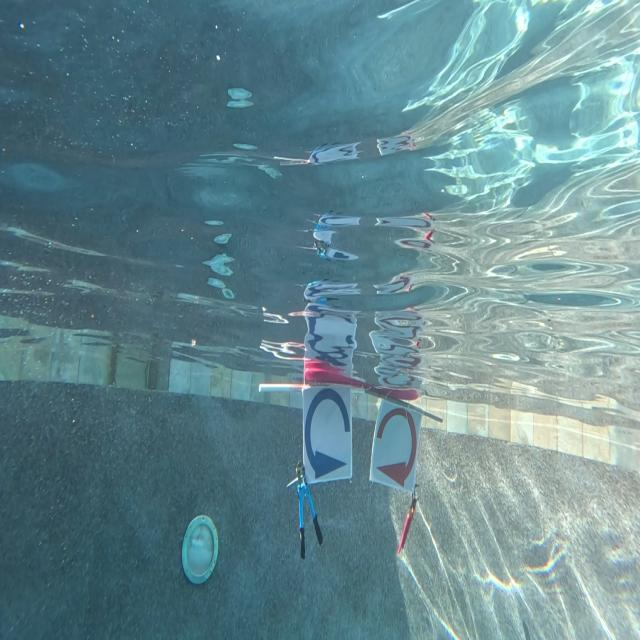blue_side: (305, 390, 354, 484)
red_side: (369, 402, 420, 495)
